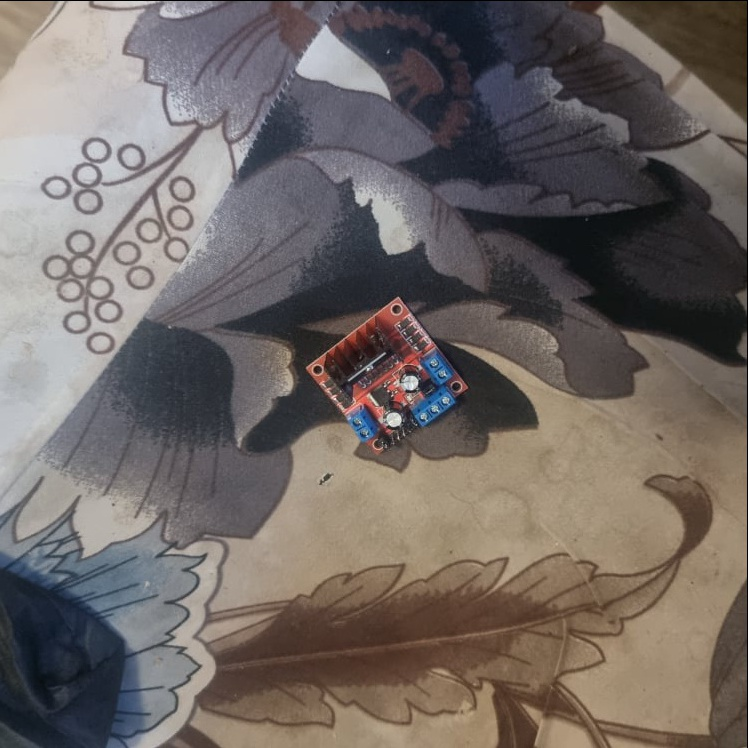MOTOR: (305, 295, 469, 451)
